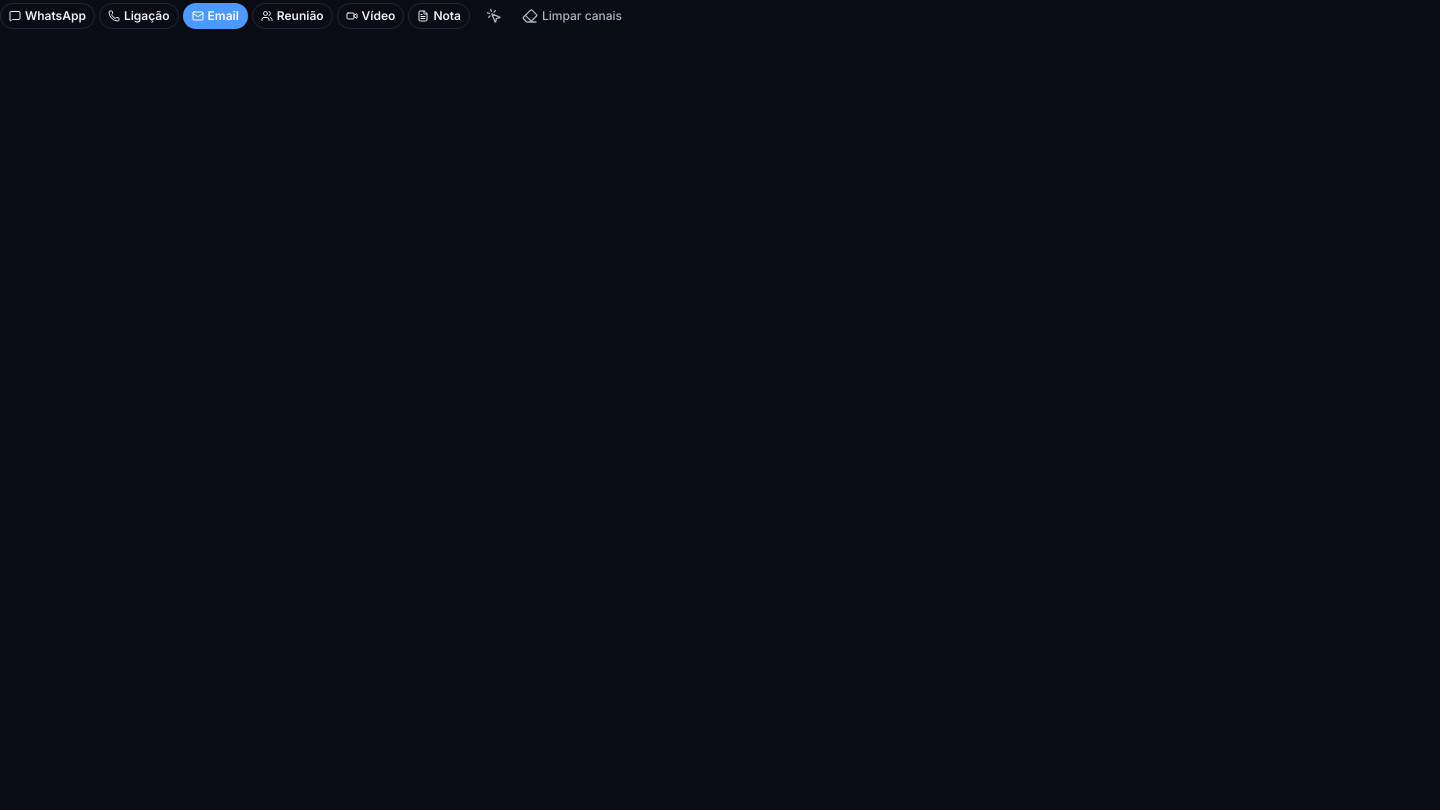
it: CanaisQuickFilter › manual mode: Revert opens confirmation and restores pending to applied value when confirmed
The width and height of the screenshot is (1440, 810).
Click the button titled "WhatsApp".
click(47, 16)  # box [0,3,95,29]
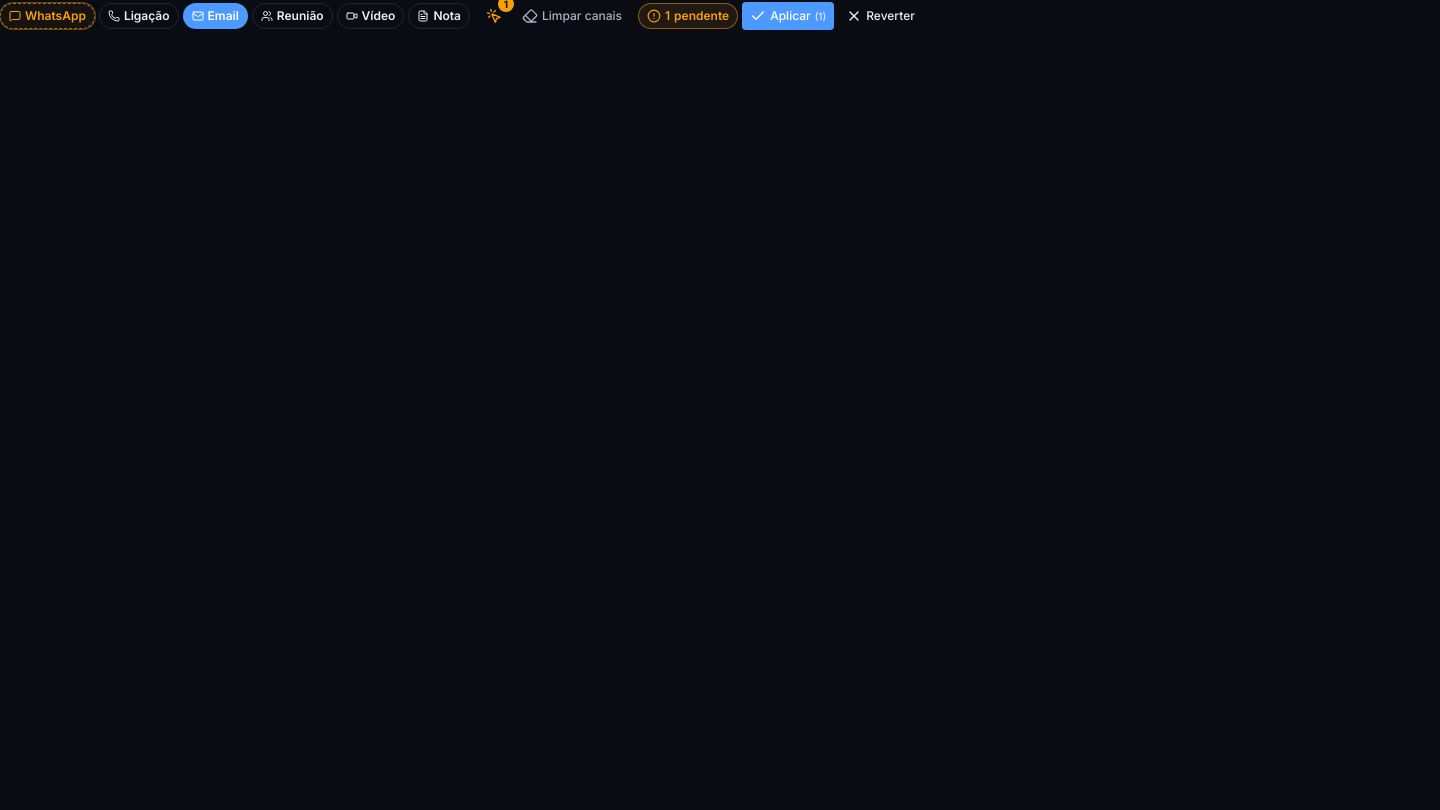
Expected: the button "Aplicar (1)" is shown, [742,2,834,30]
Click the button "Reverter".
click(881, 16)  # box [838,2,923,30]
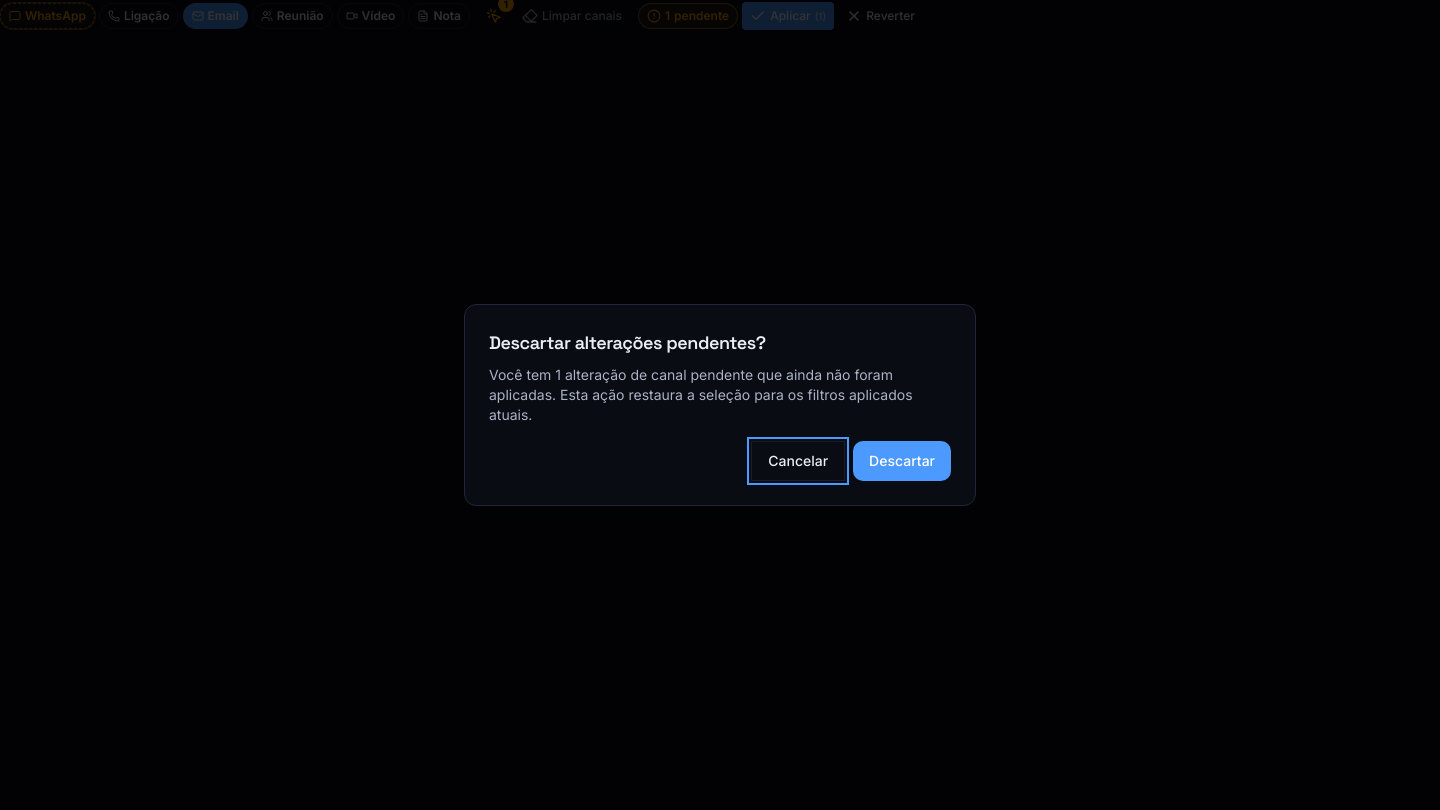
Note: Confirma no dialog
Click the button "Descartar".
click(902, 461)  # box [853,441,951,481]
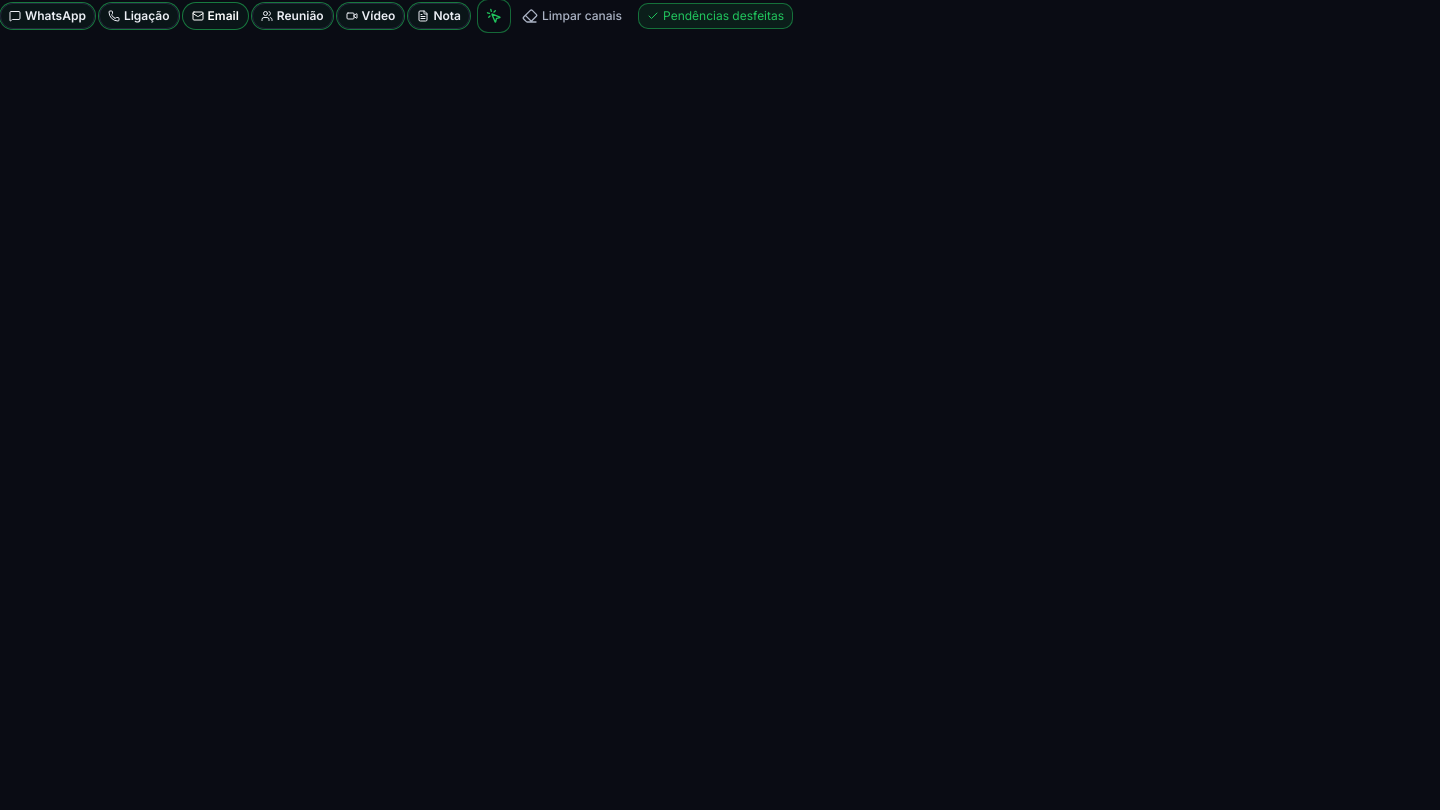
Expected: the button "Aplicar" is gone
